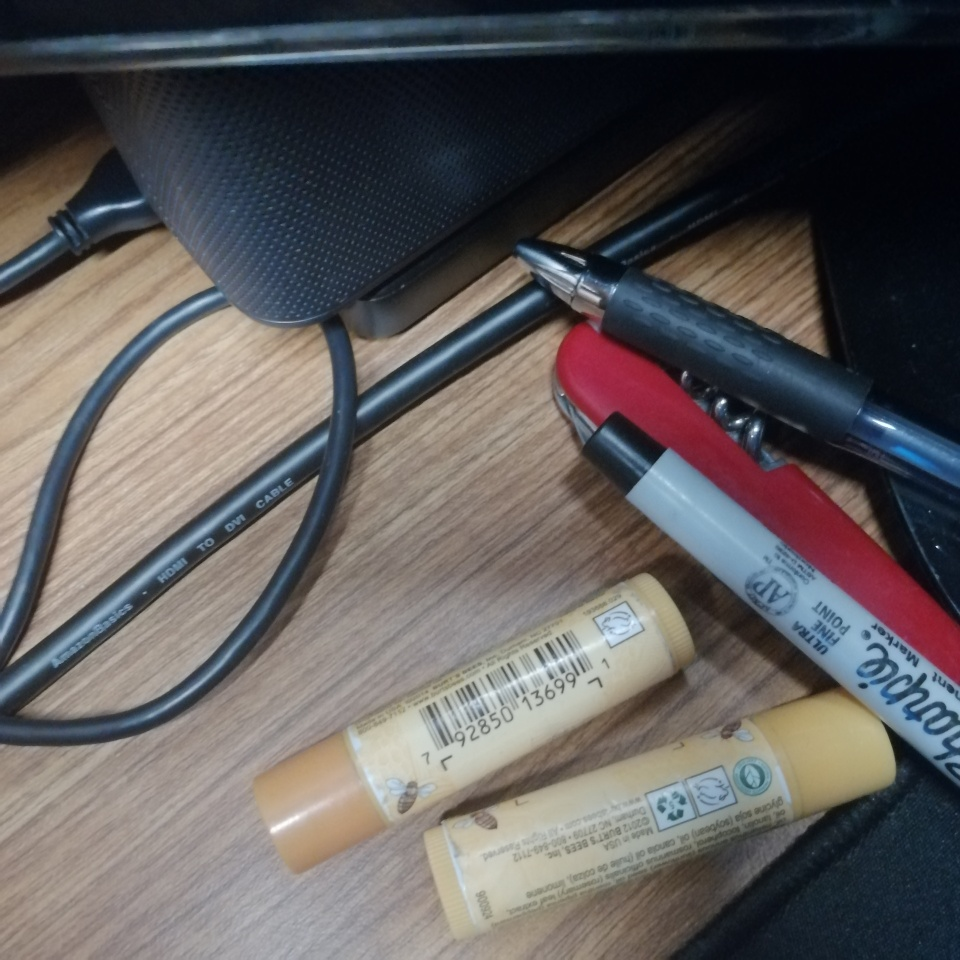chapstick: (249, 568, 698, 877), (423, 685, 898, 940)
